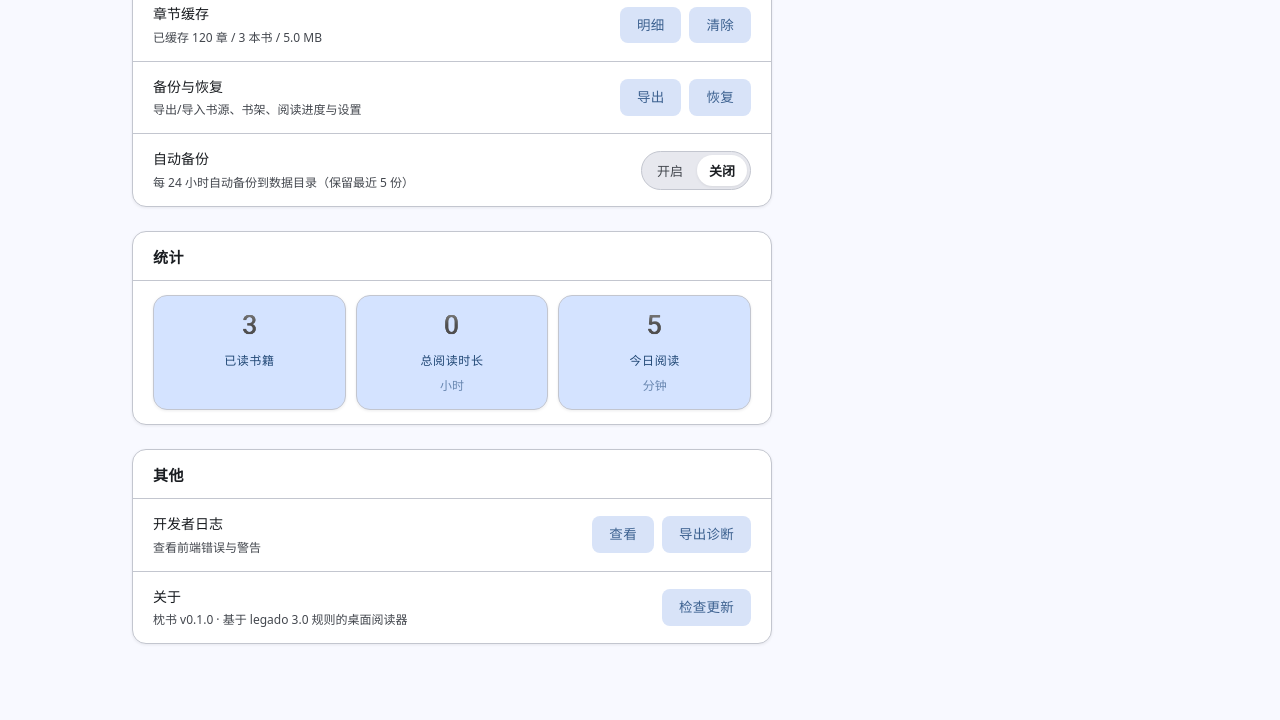
Test case: SettingsPage › opens the developer log dialog from the settings entry
(page scrolled)
Expected: the text "开发者日志" is shown, [153,514,223,533]
Click the button "查看" at [623, 535], box [592,516,654,553]
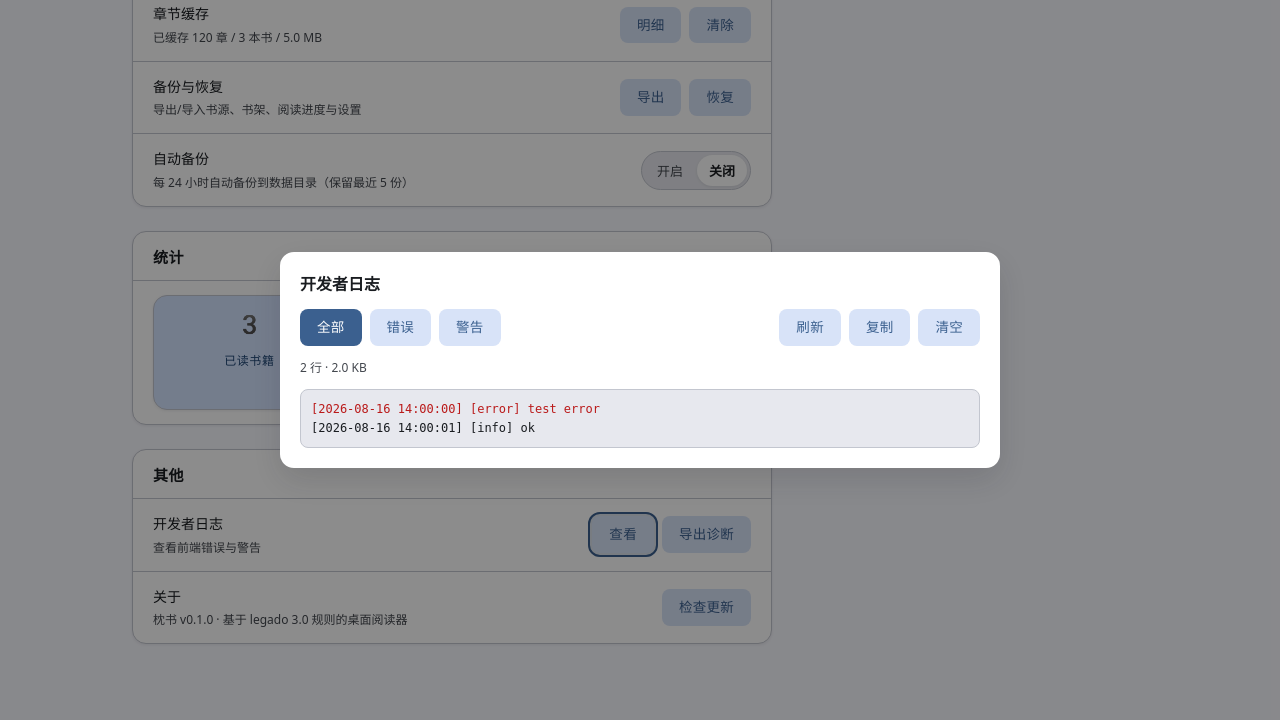
Expected: the text "[2026-08-16 14:00:00] [error] test error" is shown, [311,402,600,416]
